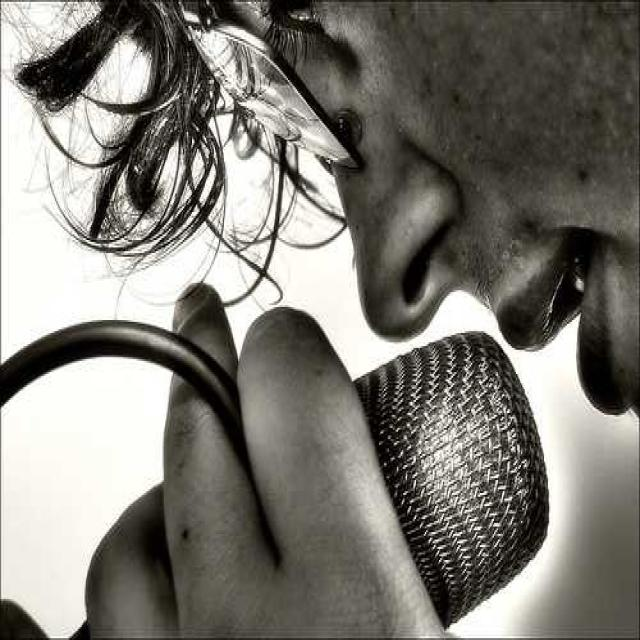microphone: (0, 316, 560, 632)
